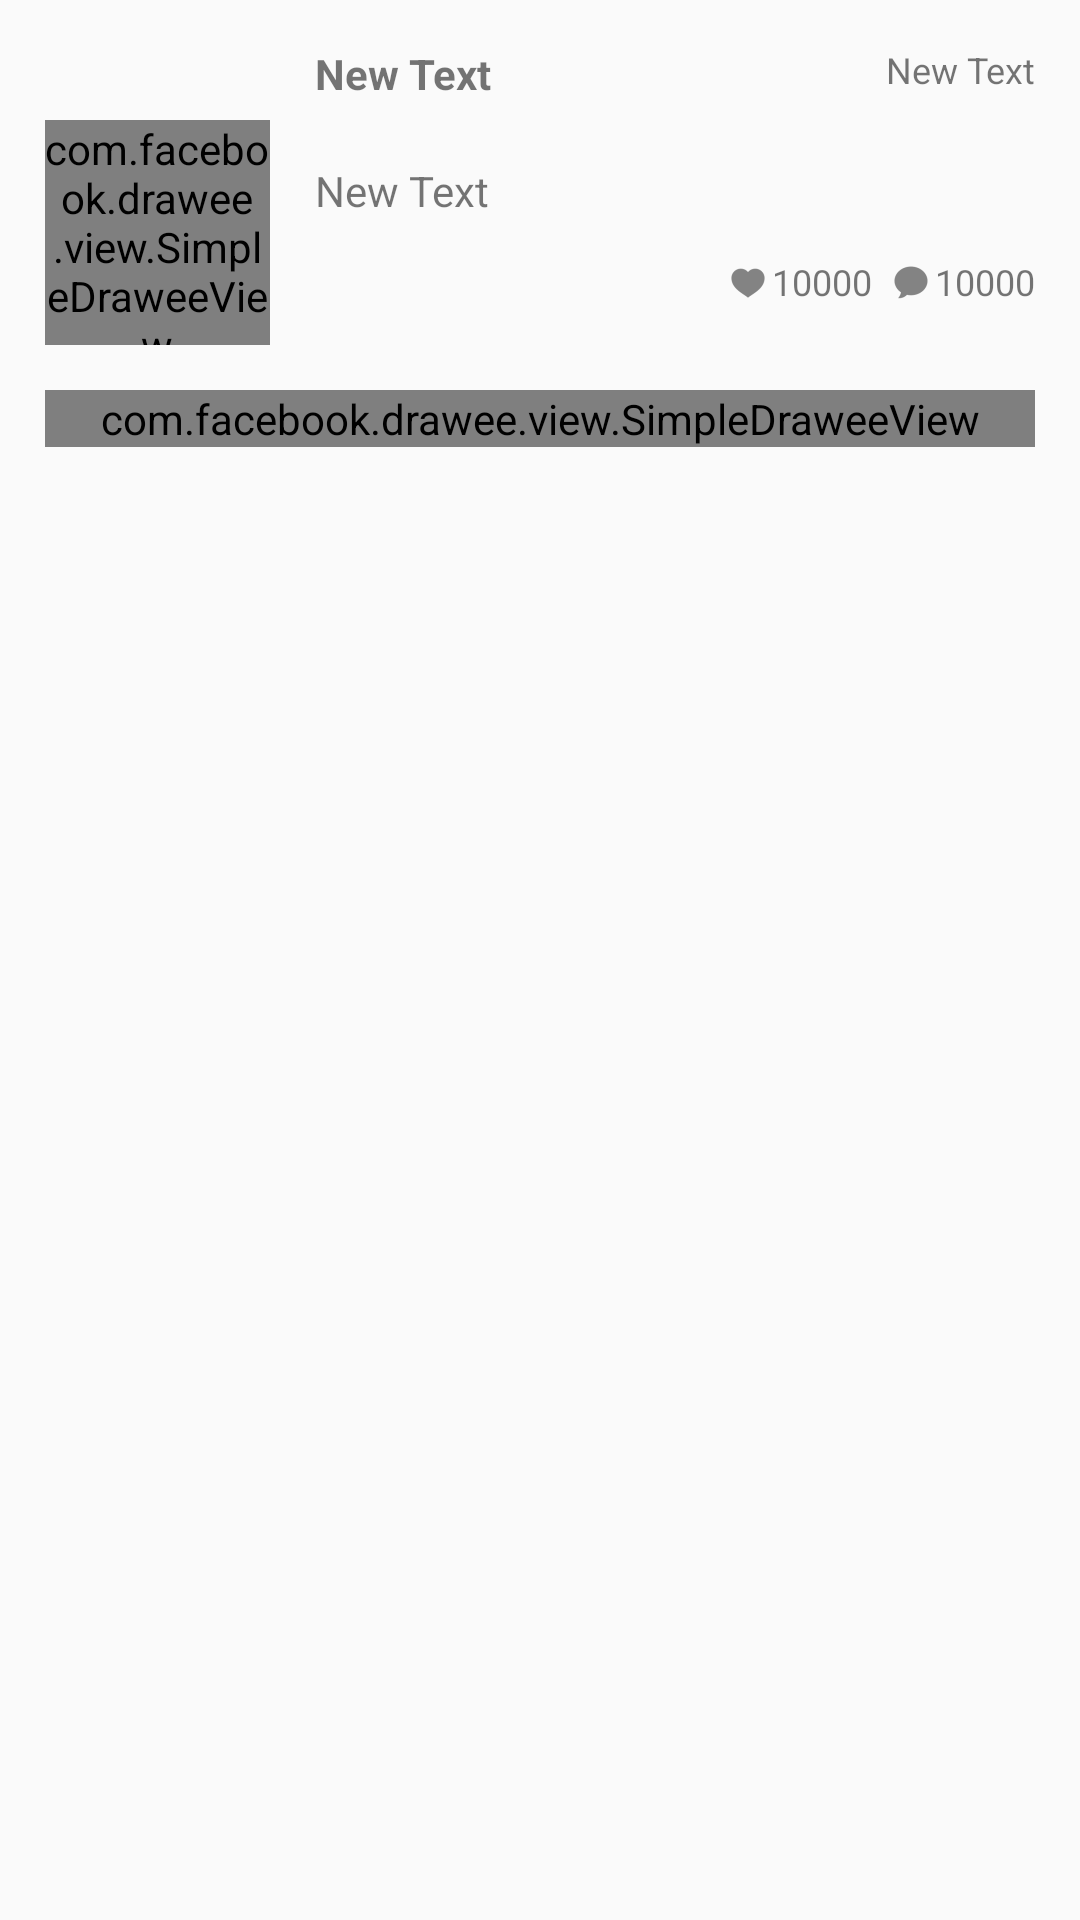

Where to tap for icons on this 1080 × 1920 app screen, as [x,y]:
hearted: [748,283]
reply: [911,282]
